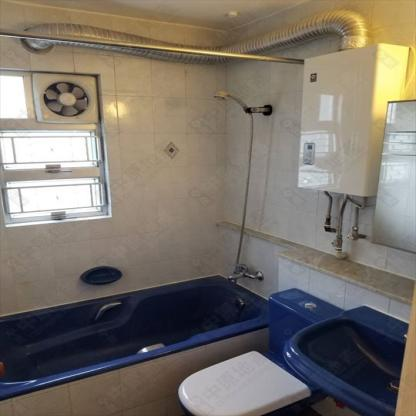Bathtub: (0, 276, 416, 397)
Exhaust Fan: (61, 72, 175, 124)
Toilet: (319, 358, 416, 415)
